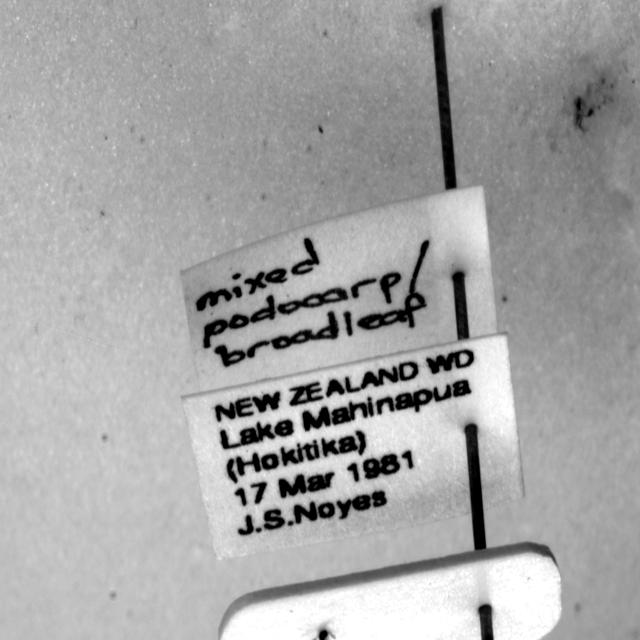hand_label: (181, 186, 498, 392)
typed_label: (182, 334, 524, 559)
